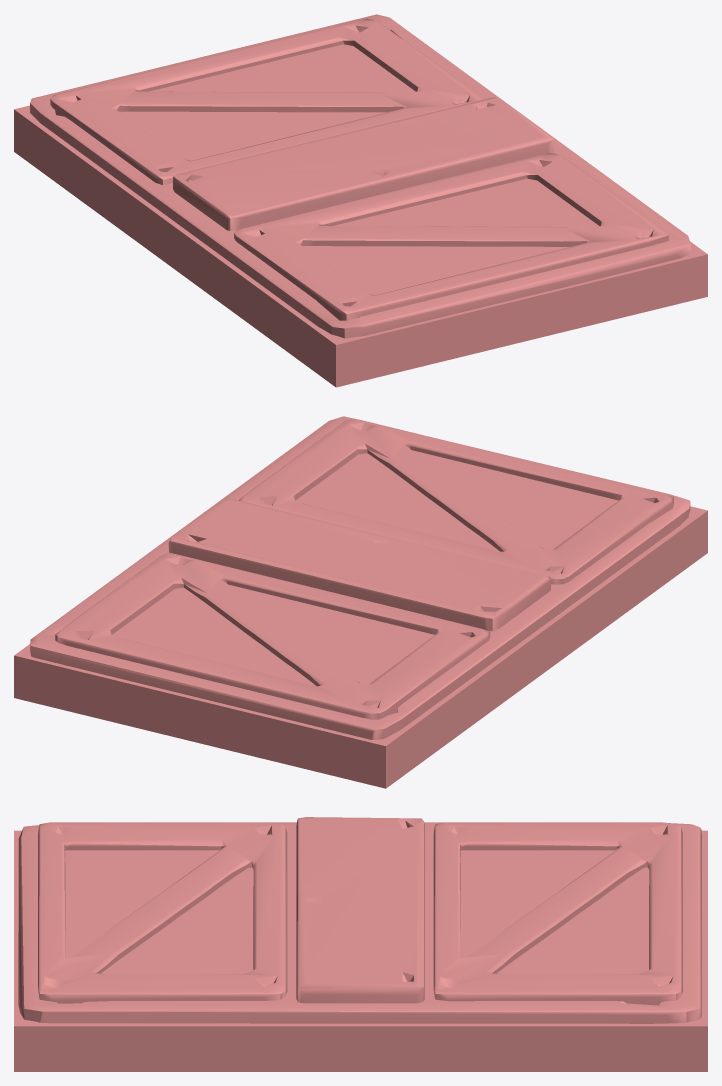
The model's file is ComplexWall_3x2_03_Final.fbx.
The picture shows the model from 3 angles, top to bottom: view 1: azimuth 30°, elevation 25°; view 2: azimuth 150°, elevation 25°; view 3: azimuth 270°, elevation 25°; orthographic projection. The views are drawn at different scales.
Parts seen in each view (by area): view 1: Final_ComplexWall_3x2_03; view 2: Final_ComplexWall_3x2_03; view 3: Final_ComplexWall_3x2_03.
Part boxes in pixels (bbox=[...]): Final_ComplexWall_3x2_03: bbox=[14, 14, 707, 387]; Final_ComplexWall_3x2_03: bbox=[14, 416, 707, 788]; Final_ComplexWall_3x2_03: bbox=[14, 817, 707, 1071].
Bounding box in the file's own units: 200 × 34.86 × 300.
